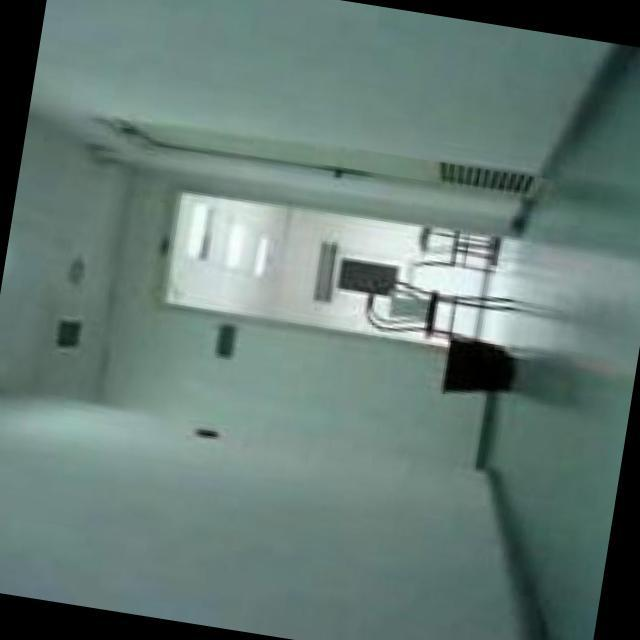Fire: (422, 327, 448, 366)
